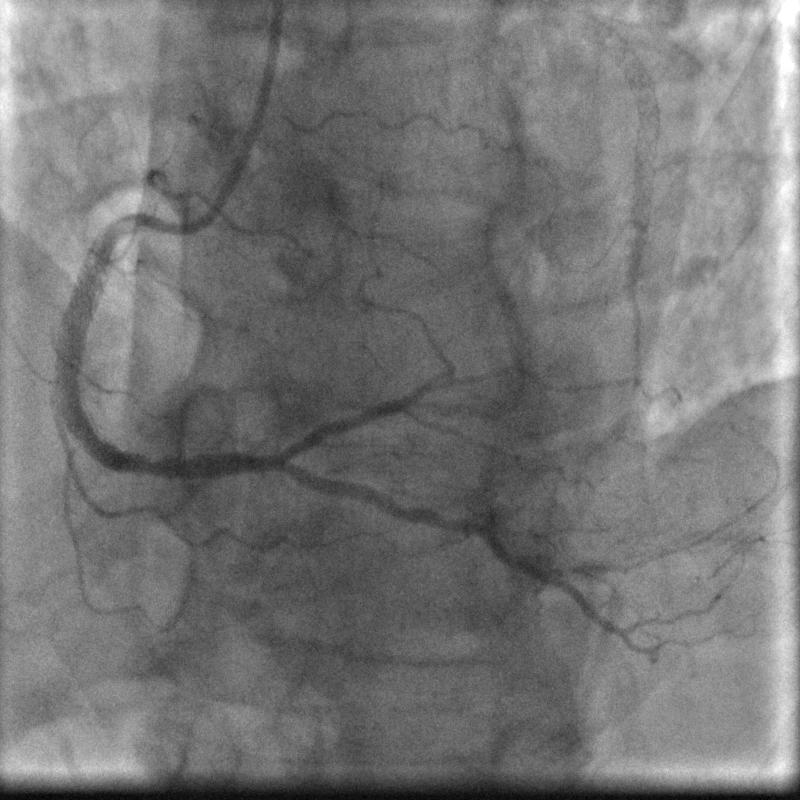Stenosis: (107, 202, 164, 246)
